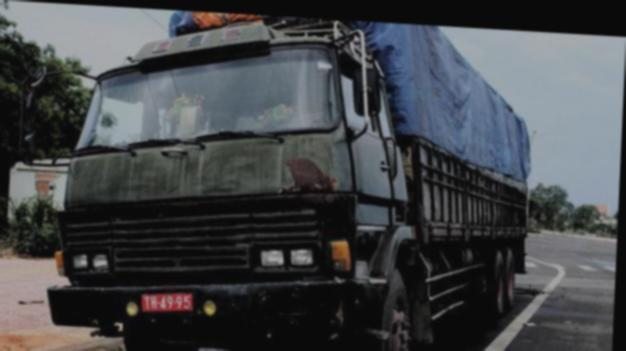License_Plate: (135, 289, 199, 315)
